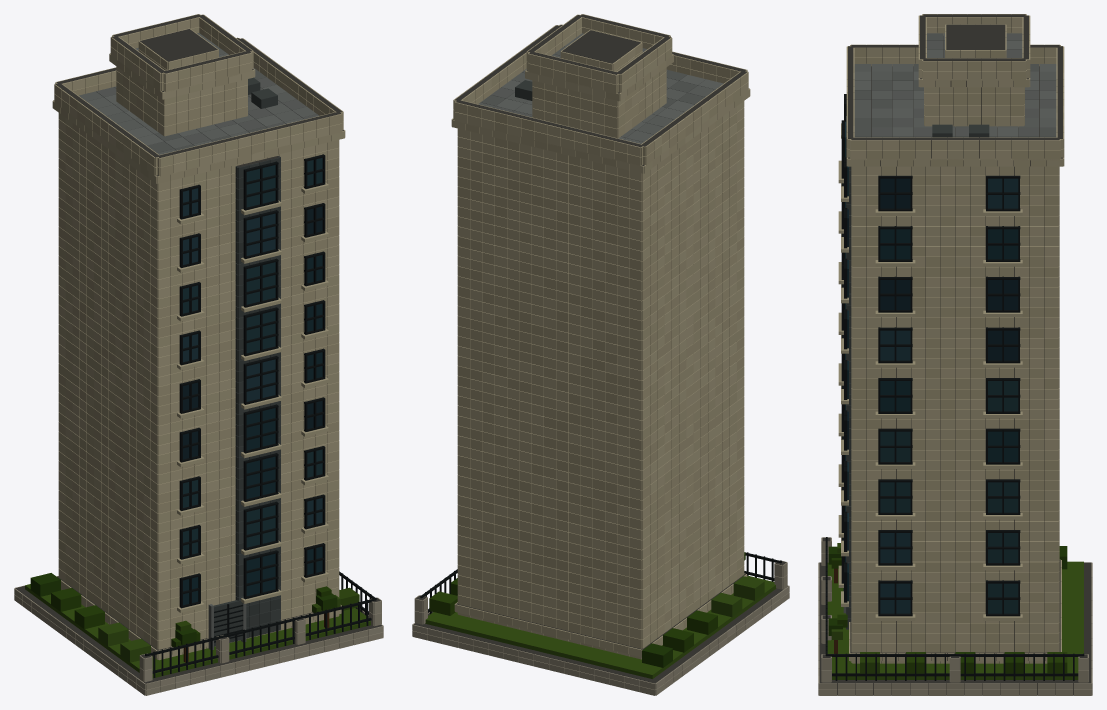
Rendered from SM_Mapa_054.fbx.
3 renders of one model, left to right at view 1: azimuth 30°, elevation 25°; view 2: azimuth 150°, elevation 25°; view 3: azimuth 270°, elevation 25°, orthographic. The views are drawn at different scales.
Visible parts, largest first — view 1: SM_Mapa_054; view 2: SM_Mapa_054; view 3: SM_Mapa_054.
Boxes of the visible parts, box(x1,y1,x2,y2) form: SM_Mapa_054: box(14, 14, 383, 695); SM_Mapa_054: box(412, 14, 789, 695); SM_Mapa_054: box(818, 14, 1092, 695).
Size of the model in its own units: 14 by 13.36 by 31.93.
